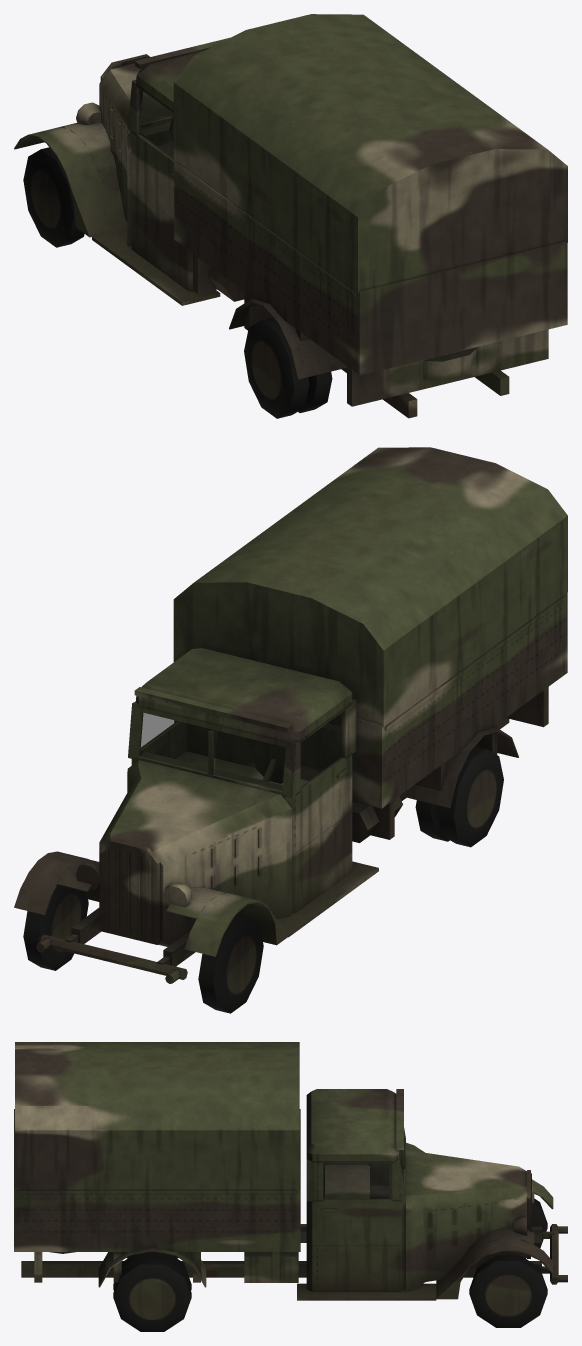
File: PF621L_MID.fbx
The picture shows the model from 3 angles, top to bottom: view 1: azimuth 30°, elevation 25°; view 2: azimuth 150°, elevation 25°; view 3: azimuth 270°, elevation 25°; orthographic projection. The views are drawn at different scales.
Visible parts, largest first — view 1: Chassis, Roue_02, Roue_Gauche_01; view 2: Chassis, Roue_02, Roue_Gauche_01, Roue_Droite_01; view 3: Chassis, Roue_02, Roue_Droite_01, Roue_Gauche_01.
Part boxes in pixels (x1,y1,x2,y2): Chassis: [14, 14, 567, 418]; Roue_02: [244, 317, 332, 418]; Roue_Gauche_01: [23, 147, 84, 247]; Chassis: [14, 447, 567, 983]; Roue_02: [415, 746, 503, 847]; Roue_Gauche_01: [198, 913, 263, 1013]; Roue_Droite_01: [23, 885, 88, 970]; Chassis: [14, 1042, 567, 1300]; Roue_02: [113, 1252, 191, 1331]; Roue_Droite_01: [469, 1255, 547, 1327]; Roue_Gauche_01: [532, 1198, 547, 1248].
Bounding box in the file's own units: 202 × 568 × 258.
Materials: 2 (1 with a texture image).
